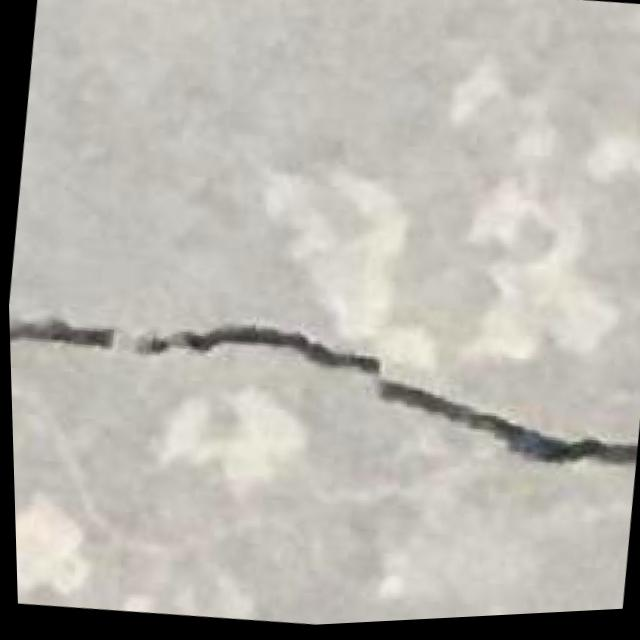Crack: (5, 186, 640, 640), (7, 256, 640, 528)
